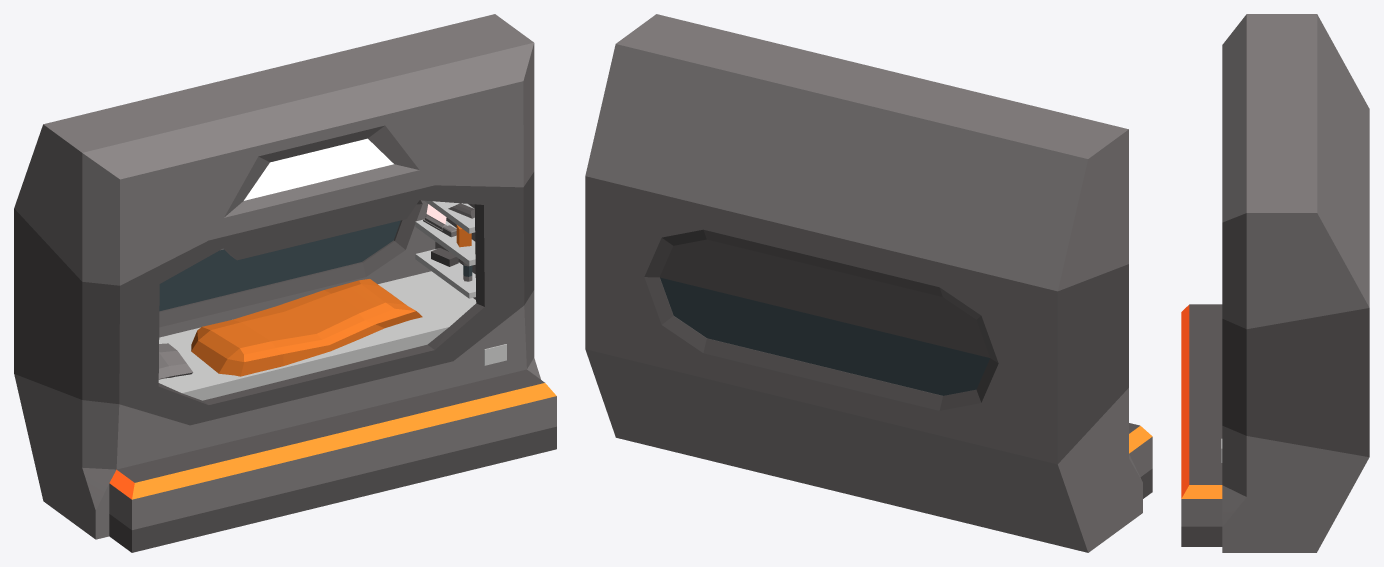
Rendered from scifi_scifi-capsule-corridor.fbx.
The picture shows the model from 3 angles, left to right: view 1: azimuth 30°, elevation 25°; view 2: azimuth 150°, elevation 25°; view 3: azimuth 270°, elevation 25°; orthographic projection. The views are drawn at different scales.
Parts seen in each view (by area): view 1: scifi_scifi_capsule_corridor; view 2: scifi_scifi_capsule_corridor; view 3: scifi_scifi_capsule_corridor.
Part boxes in pixels (x1=…): scifi_scifi_capsule_corridor: x1=14, y1=14, x2=556, y2=552; scifi_scifi_capsule_corridor: x1=585, y1=14, x2=1152, y2=552; scifi_scifi_capsule_corridor: x1=1181, y1=14, x2=1369, y2=552.
Bounding box in the file's own units: 200 × 159 × 79.95.
